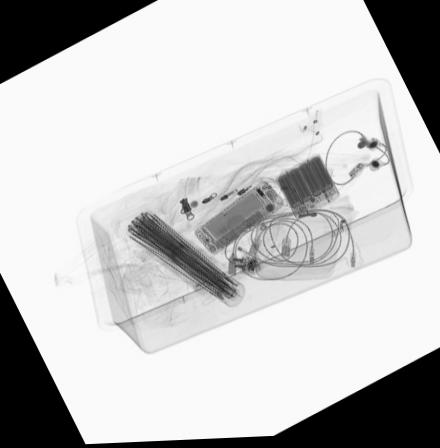Powerbank: (270, 153, 341, 221)
